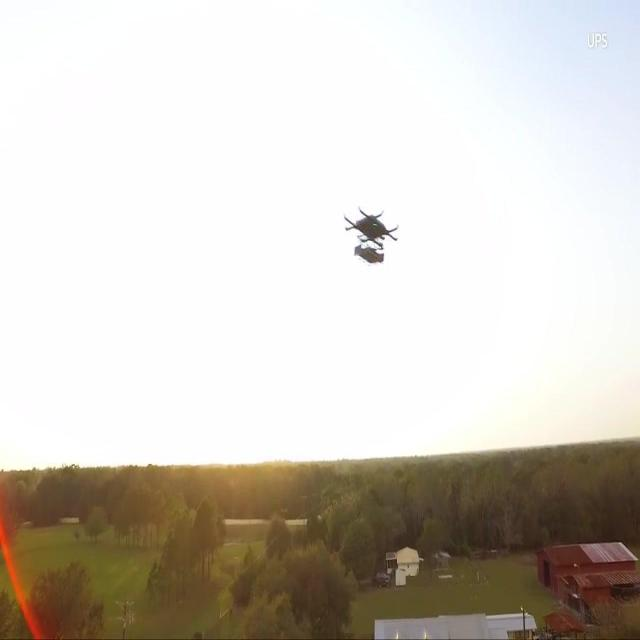drone: (342, 202, 399, 271)
